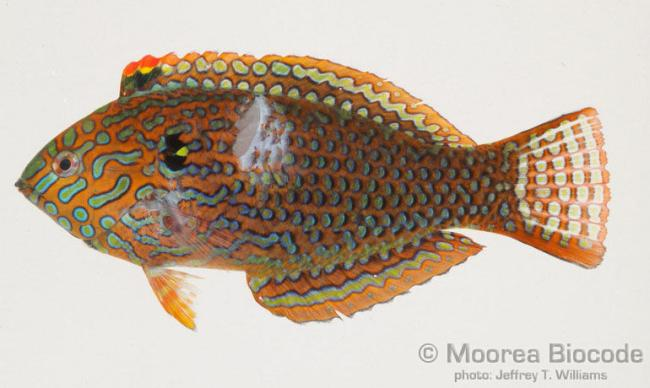fish: (15, 51, 612, 332)
